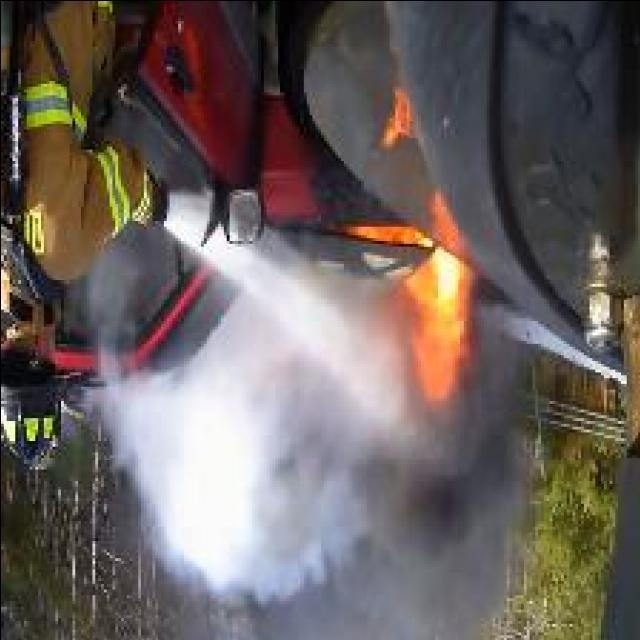Fire: (342, 225, 474, 402)
